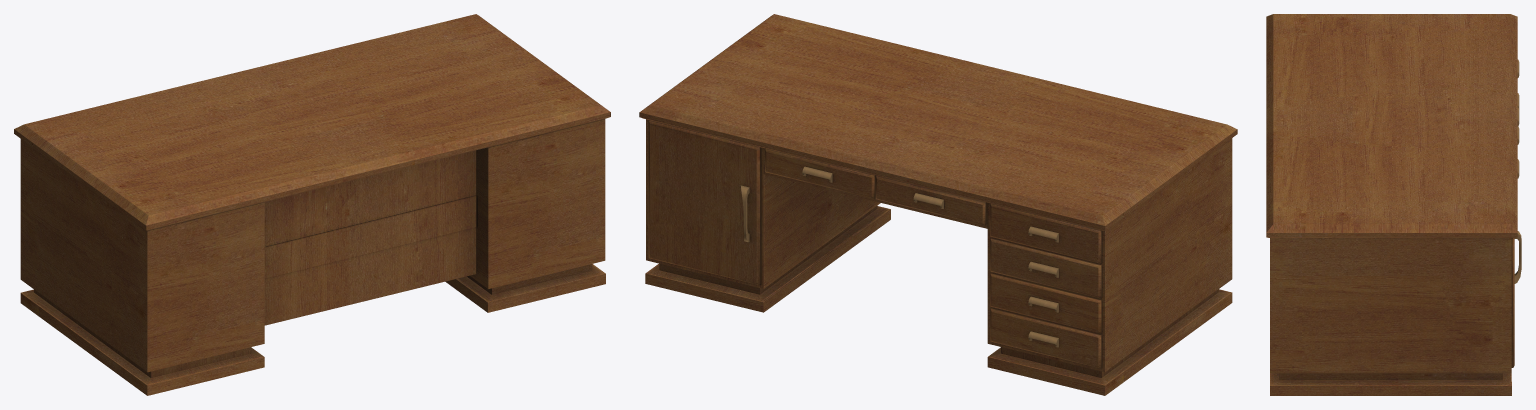
Rendered from Desk.obj.
3 views of the same model, side by side, from view 1: azimuth 30°, elevation 25°; view 2: azimuth 150°, elevation 25°; view 3: azimuth 270°, elevation 25° (orthographic). The views are drawn at different scales.
Parts seen in each view (by area): view 1: Desk; view 2: Desk; view 3: Desk.
Part boxes in pixels (x1,y1,x2,y2): Desk: (14, 14, 610, 395); Desk: (639, 14, 1237, 395); Desk: (1266, 14, 1521, 395).
Bounding box in the file's own units: 196 × 72.01 × 97.99.
1 material, 1 textured.
